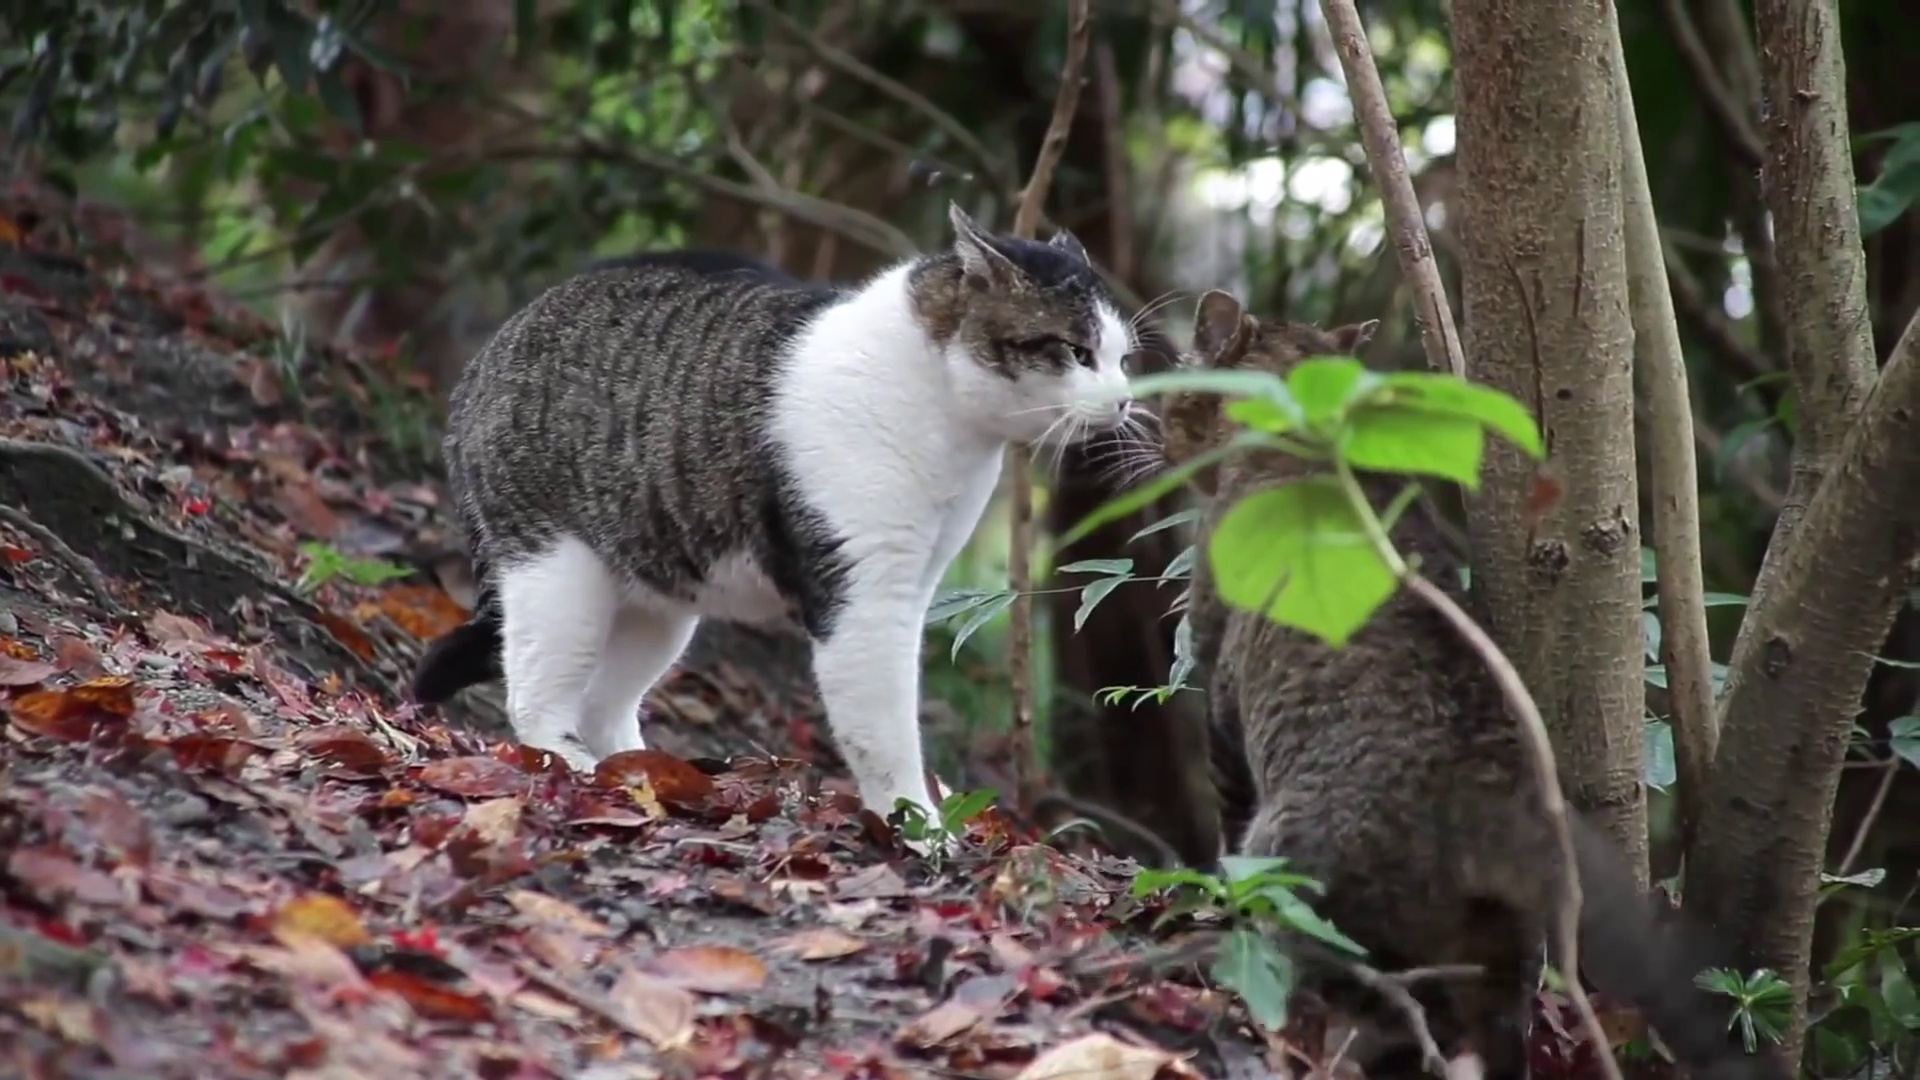black-white: (410, 198, 1131, 876)
pure black: (1156, 291, 1584, 1025)
